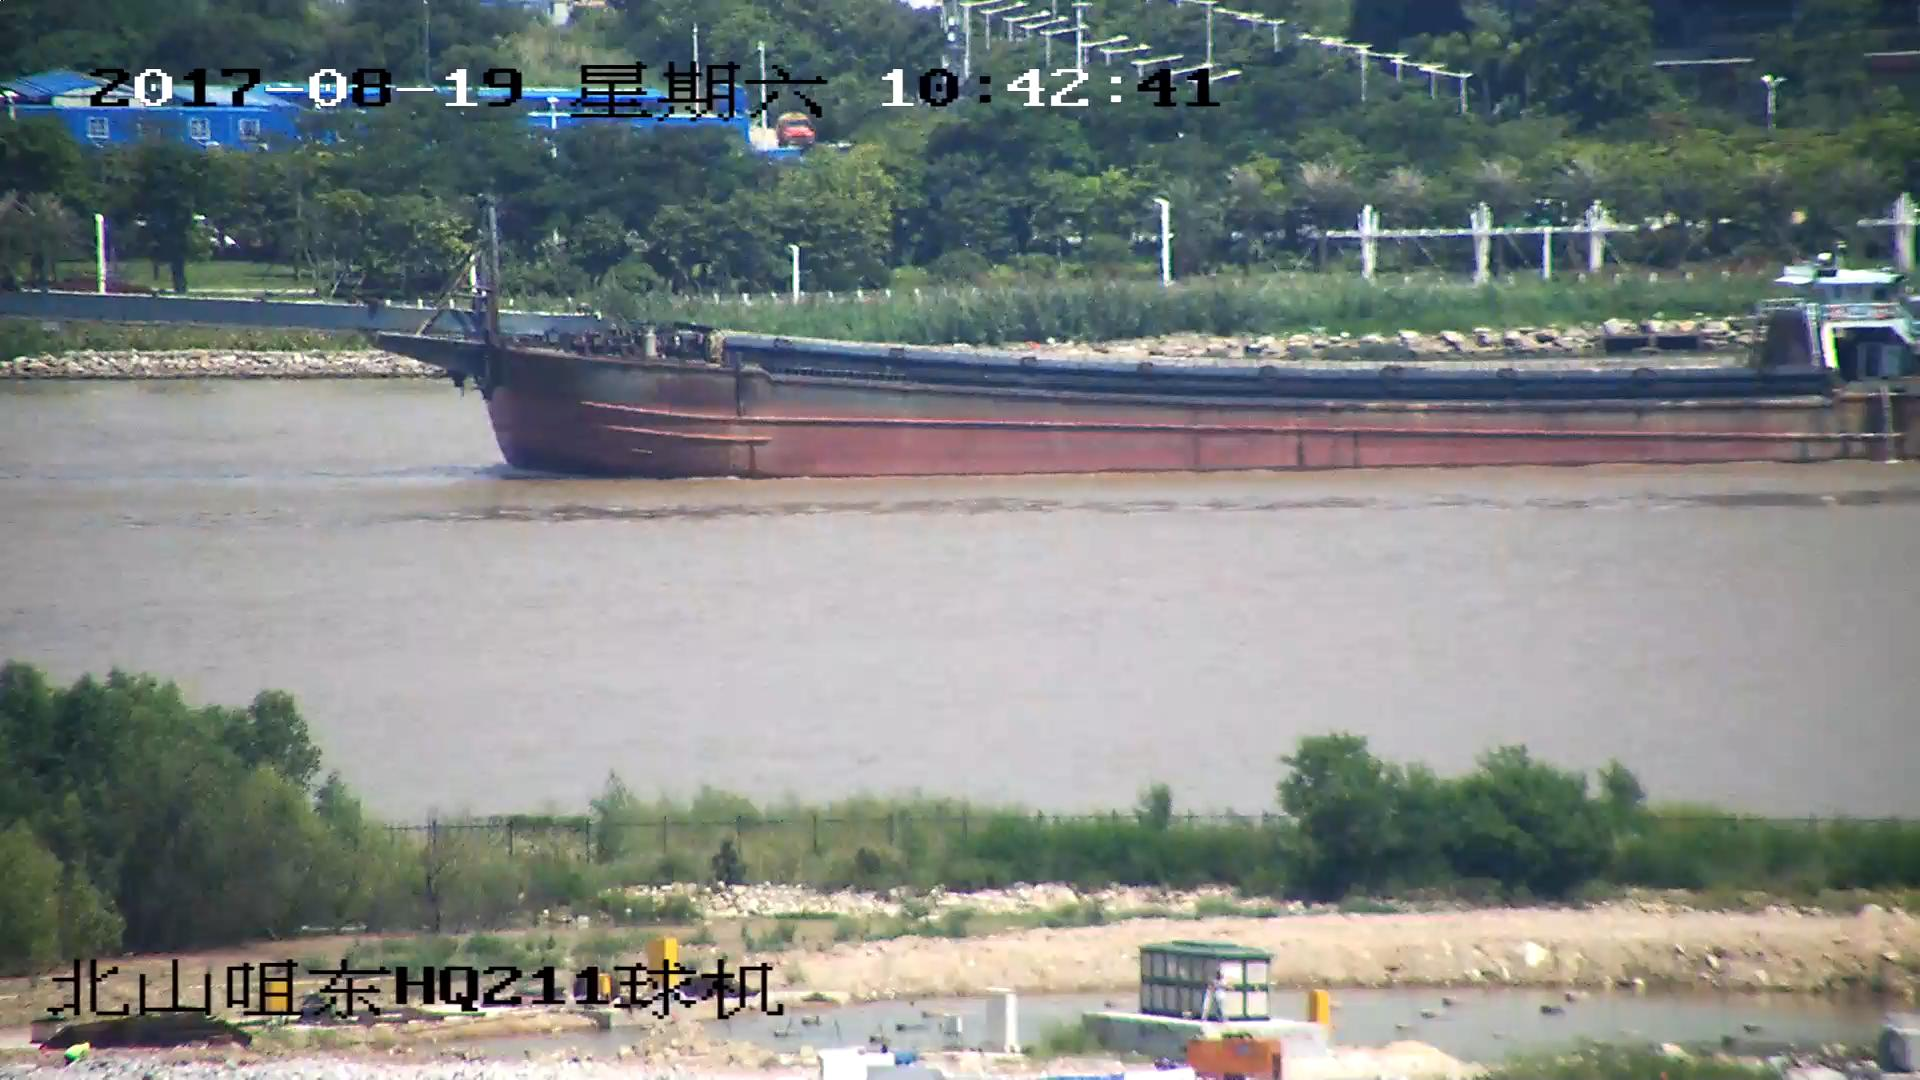bulk cargo carrier: (1, 205, 1920, 479)
